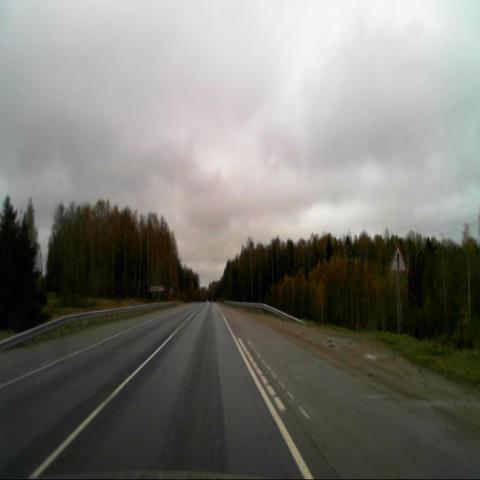2_3_3: (389, 244, 407, 274)
